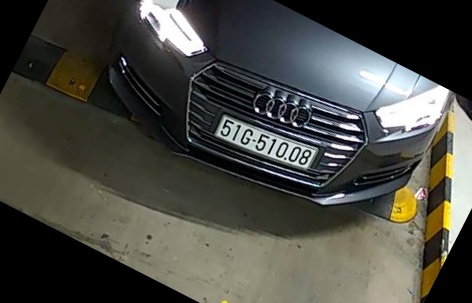plate: (208, 115, 316, 173)
